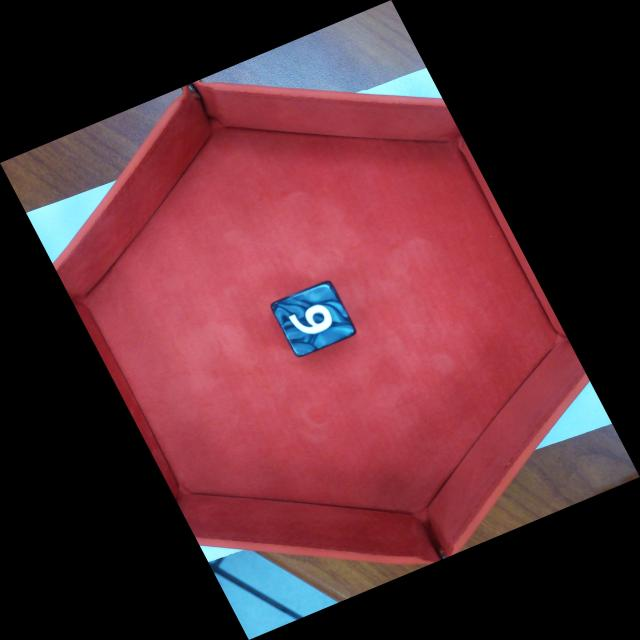dice: (269, 280, 357, 358)
